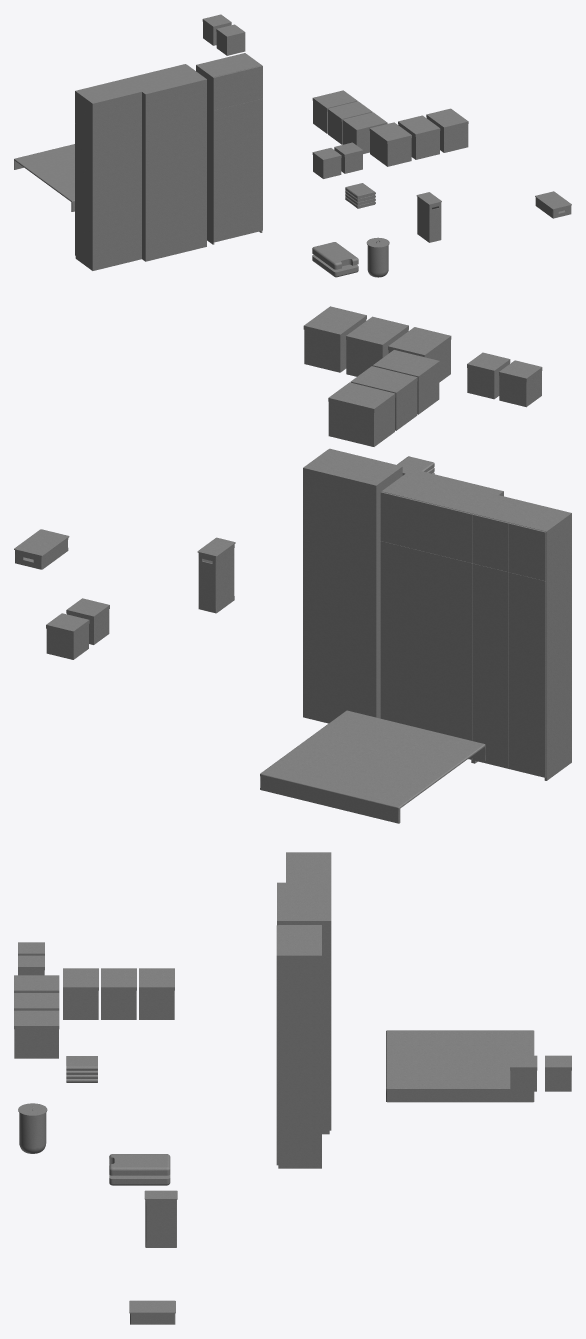
The picture shows the model from 3 angles, top to bottom: view 1: azimuth 30°, elevation 25°; view 2: azimuth 150°, elevation 25°; view 3: azimuth 270°, elevation 25°; orthographic projection. The views are drawn at different scales.
Bounding box in the file's own units: 6.79 × 2.6 × 6.17.
Materials: 1 (1 with a texture image).
